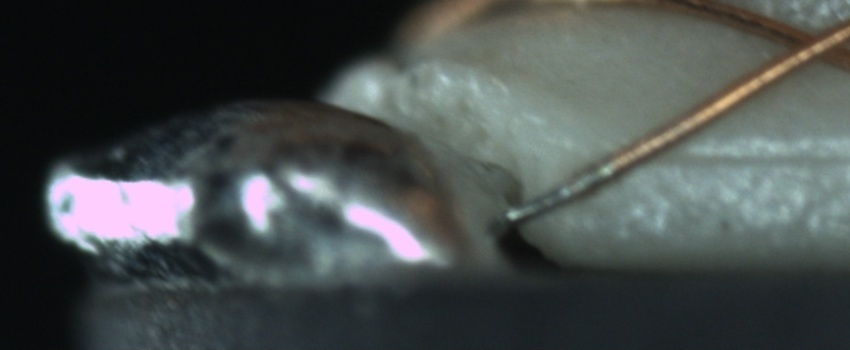CL: (765, 11, 845, 75)
DL: (630, 122, 844, 190)
TS: (502, 157, 620, 224)
TTCW: (502, 139, 645, 225)
